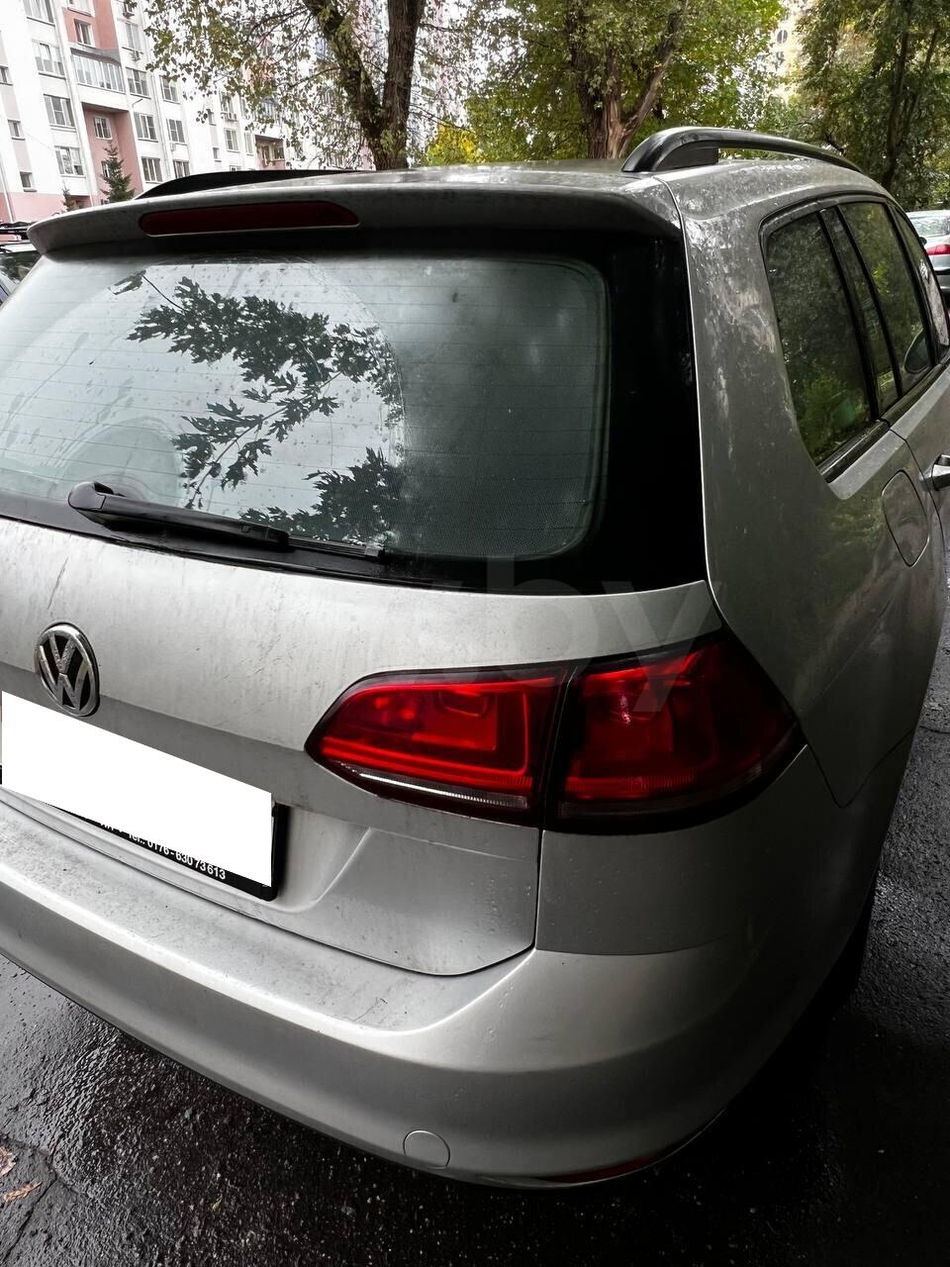Golf_2017-2021: (0, 129, 950, 1202)
